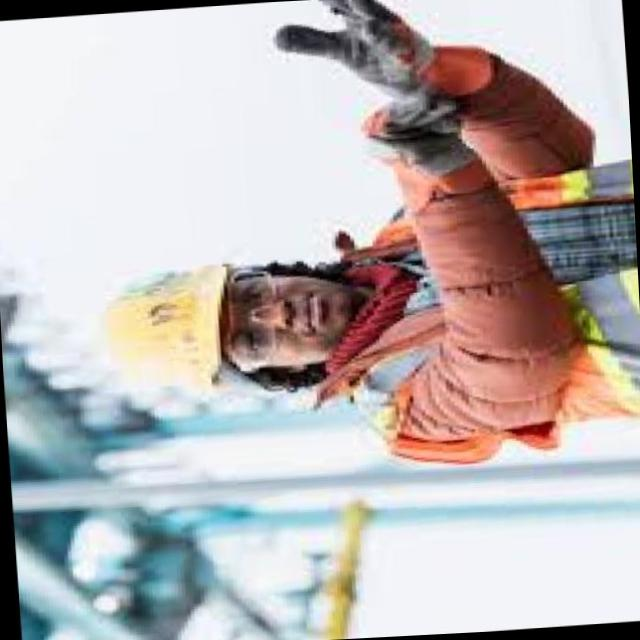gloved: (257, 0, 486, 107), (346, 87, 485, 215)
